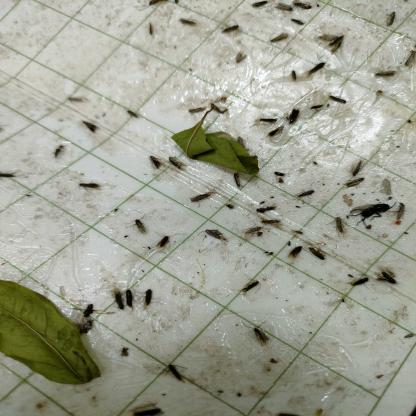prays_oleae: (132, 210, 151, 251), (304, 55, 326, 83), (251, 322, 270, 353), (220, 18, 244, 41), (80, 112, 99, 140), (350, 269, 370, 295), (240, 275, 260, 301), (77, 175, 105, 193), (374, 65, 399, 85), (328, 87, 349, 110), (166, 153, 184, 179), (330, 212, 344, 244), (110, 284, 127, 310), (381, 10, 401, 32), (268, 30, 288, 51), (392, 198, 406, 228), (266, 125, 288, 144), (158, 228, 170, 261), (378, 266, 396, 288), (140, 287, 154, 314), (147, 150, 162, 175), (206, 224, 223, 246), (49, 140, 66, 162), (344, 173, 366, 190), (298, 183, 314, 206), (289, 239, 305, 262), (311, 244, 325, 270), (75, 319, 95, 337), (185, 190, 210, 204), (83, 293, 98, 316), (180, 15, 198, 34), (125, 102, 138, 127), (256, 204, 280, 217), (404, 48, 416, 72), (274, 2, 294, 16), (123, 291, 138, 309), (309, 97, 324, 115), (234, 174, 245, 194), (352, 158, 364, 176), (257, 115, 278, 125), (291, 14, 303, 30), (253, 1, 270, 9), (294, 4, 310, 10), (290, 68, 296, 80)
